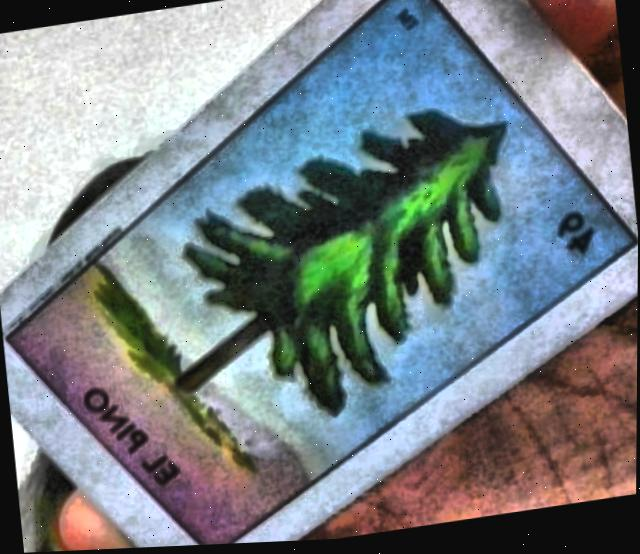El Pino: (6, 0, 631, 547)
